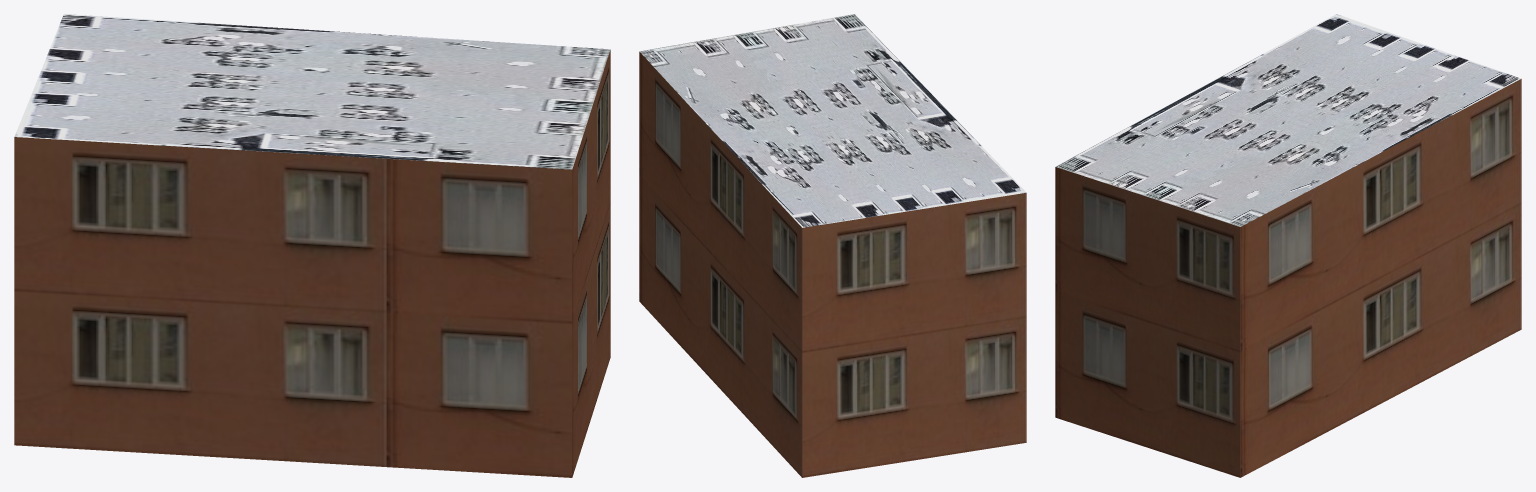
File: ResTex__2136.fbx
3 renders of one model, left to right at view 1: azimuth 30°, elevation 25°; view 2: azimuth 150°, elevation 25°; view 3: azimuth 270°, elevation 25°, orthographic. The views are drawn at different scales.
Visible parts, largest first — view 1: CityEngineMaterial_20_m, CityEngineMaterial_m; view 2: CityEngineMaterial_20_m, CityEngineMaterial_m; view 3: CityEngineMaterial_20_m, CityEngineMaterial_m.
Boxes of the visible parts, x1,y1,x2,y2 form: CityEngineMaterial_20_m: (14,50,610,477); CityEngineMaterial_m: (14,14,610,169); CityEngineMaterial_20_m: (639,52,1026,477); CityEngineMaterial_m: (639,14,1026,227); CityEngineMaterial_20_m: (1055,79,1521,477); CityEngineMaterial_m: (1055,14,1520,226).
Bounding box in the file's own units: 10.93 × 6 × 10.11.
Materials: 2 (2 with a texture image).
